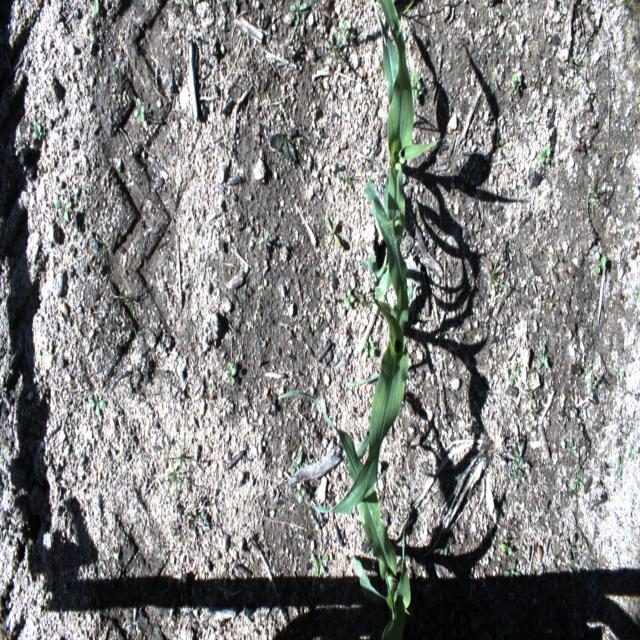crop: (308, 181, 412, 517), (281, 392, 411, 639), (369, 0, 441, 241)
weed: (310, 28, 352, 79), (144, 466, 183, 520), (106, 282, 142, 327), (485, 256, 521, 294), (161, 432, 196, 468), (272, 132, 301, 167), (585, 180, 605, 223), (320, 215, 343, 248), (51, 199, 75, 225), (563, 536, 583, 566), (509, 448, 526, 483), (288, 2, 309, 28), (534, 343, 550, 376), (411, 66, 424, 106), (360, 251, 378, 278), (312, 552, 329, 580), (505, 362, 522, 390), (263, 392, 280, 419), (134, 98, 148, 130), (323, 7, 340, 33), (504, 560, 521, 586), (530, 391, 545, 420), (257, 226, 273, 253), (109, 58, 123, 88), (342, 164, 356, 194), (509, 68, 524, 96), (570, 465, 586, 491), (610, 362, 626, 388), (288, 456, 306, 479), (536, 144, 552, 169), (89, 397, 108, 417), (574, 134, 588, 160), (594, 250, 607, 277), (499, 538, 516, 558), (30, 119, 43, 145), (455, 32, 471, 52), (226, 361, 237, 390), (614, 453, 626, 479), (568, 568, 580, 594), (579, 361, 590, 387), (439, 548, 452, 570), (292, 484, 306, 504), (626, 440, 638, 463), (344, 289, 355, 314), (564, 443, 580, 460), (362, 340, 376, 358), (420, 33, 432, 53), (338, 19, 351, 37), (588, 374, 598, 396), (591, 226, 602, 245), (197, 507, 207, 527), (506, 231, 515, 252), (359, 294, 370, 311), (630, 242, 638, 263), (92, 0, 100, 18)
